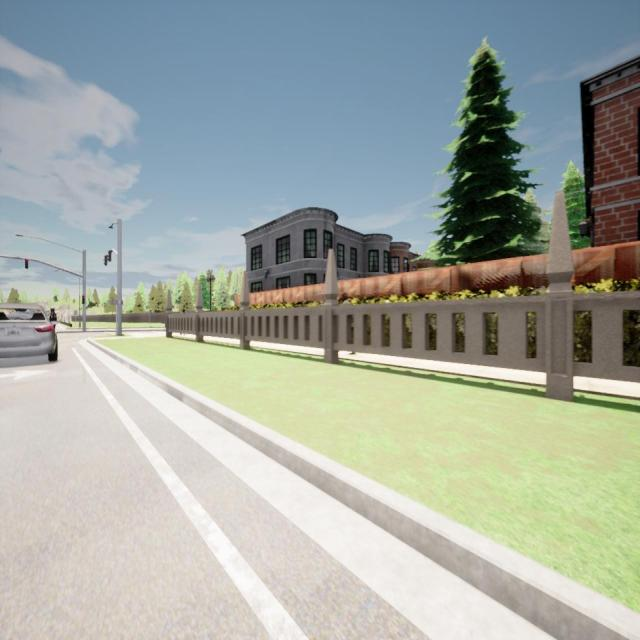Pedestrian: (49, 308, 57, 325)
Traffic_Signs: (109, 300, 123, 305)
Vehicle: (0, 302, 58, 360)
traffic_light: (103, 255, 107, 266), (108, 251, 111, 261), (25, 258, 28, 268), (82, 296, 85, 304)
